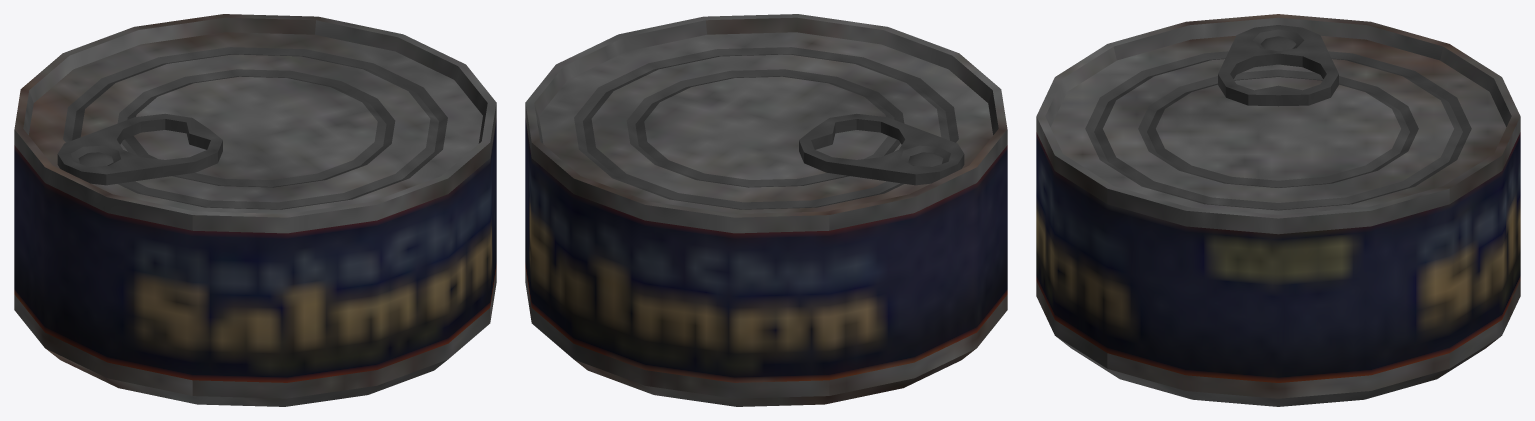
The model's file is canned_food_5.obj.
The picture shows the model from 3 angles, left to right: view 1: azimuth 30°, elevation 25°; view 2: azimuth 150°, elevation 25°; view 3: azimuth 270°, elevation 25°; orthographic projection.
Visible parts, largest first — view 1: canned_food_5; view 2: canned_food_5; view 3: canned_food_5.
Boxes of the visible parts, bbox=[...] form: canned_food_5: bbox=[14, 14, 496, 406]; canned_food_5: bbox=[525, 14, 1007, 406]; canned_food_5: bbox=[1036, 14, 1520, 406].
Bounding box in the file's own units: 0.112 × 0.05 × 0.112.
